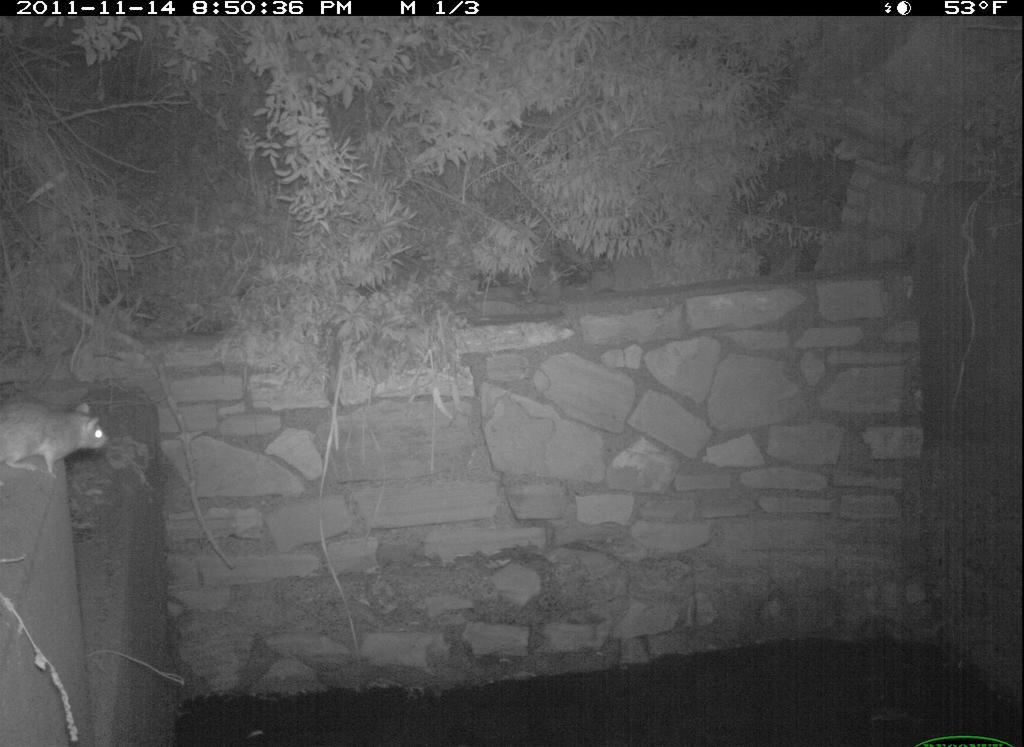rodent: (2, 389, 114, 481)
